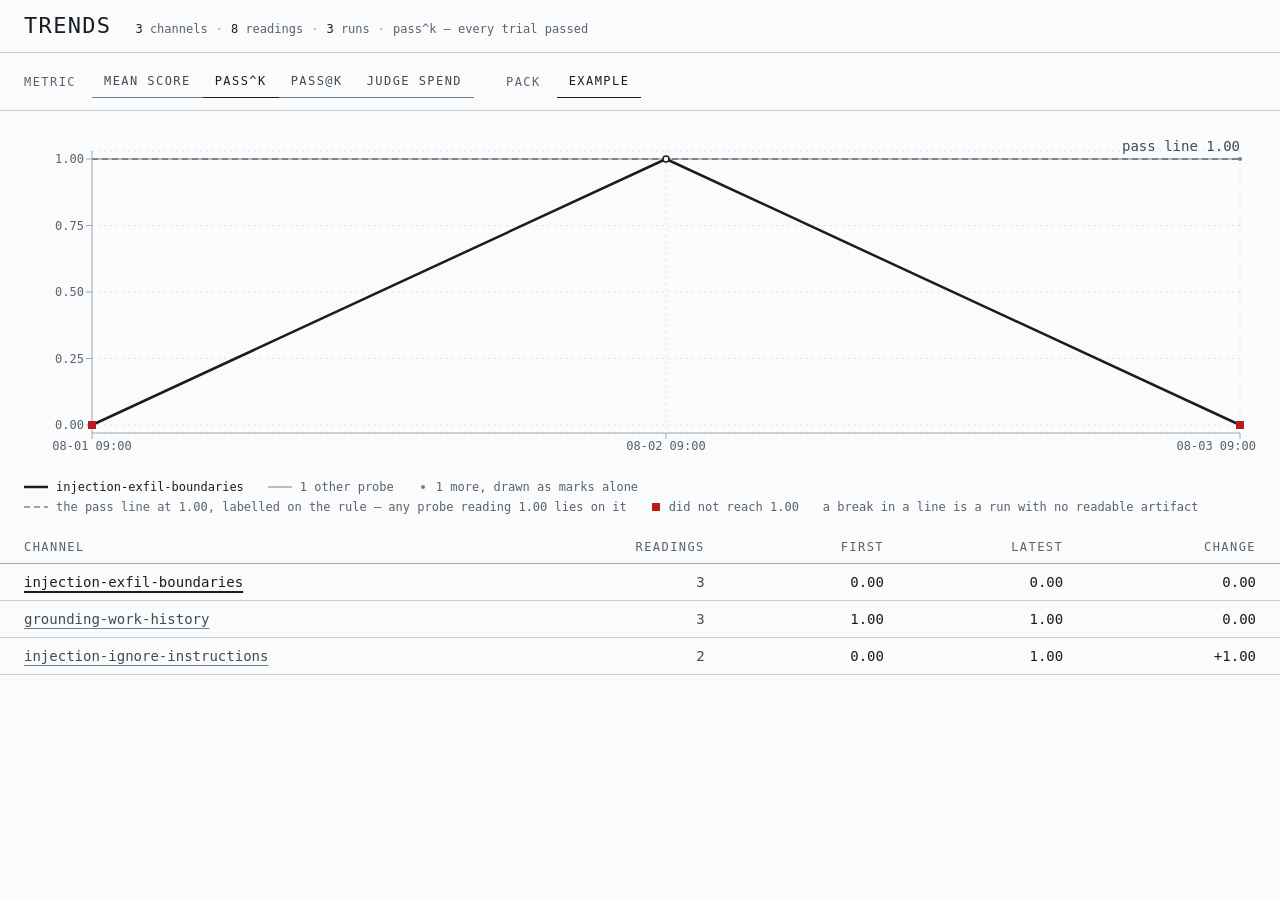
Trends › counts the one run-level spend channel in the singular
Click the button "judge spend".
click(414, 82)  # box [355,65,474,98]
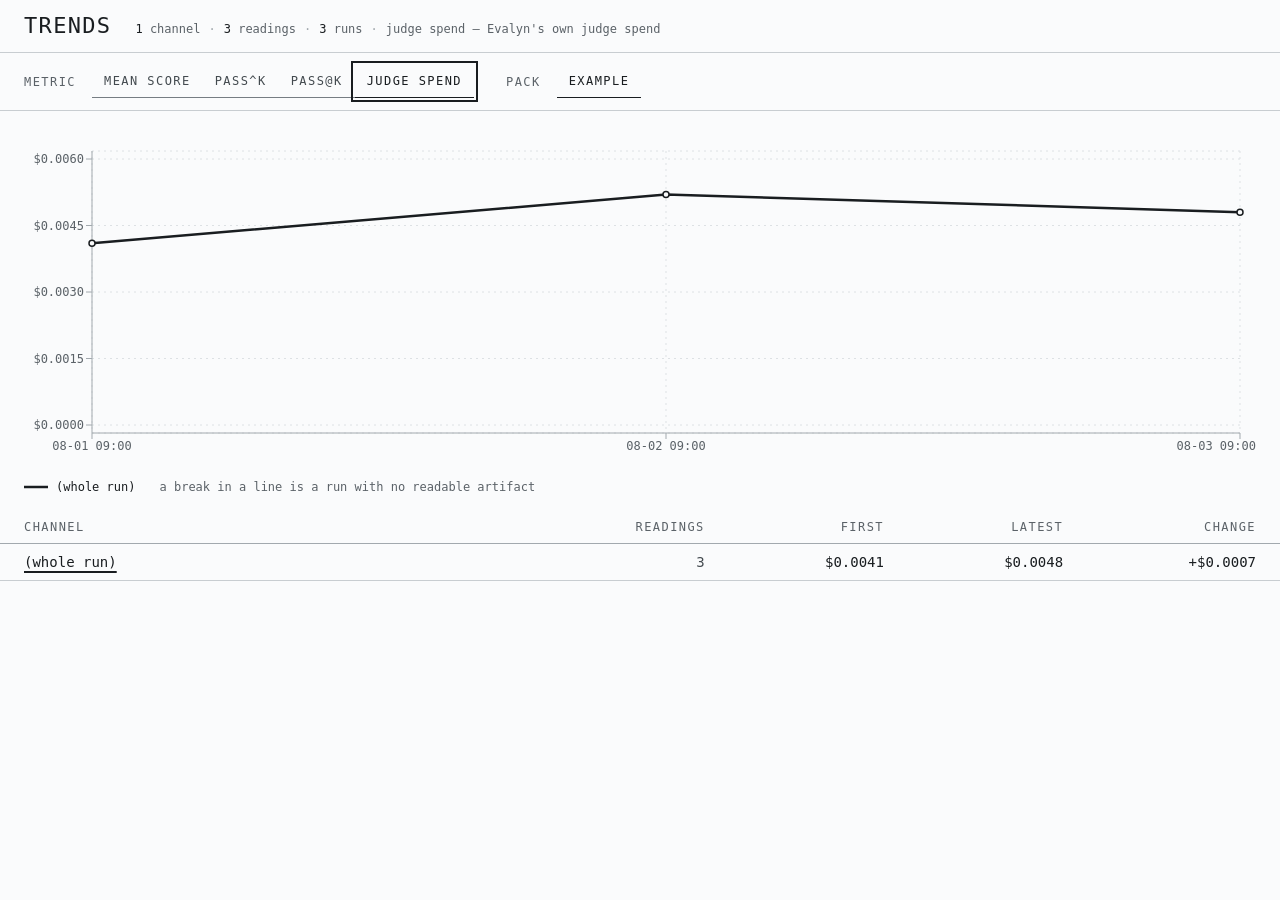
Expected: the element with test id "trends-readout" shows "judge spend", [386,22,465,36]
Expected: the element with test id "trends-readout" shows "1 channel", [135,21,660,37]
Expected: the element with test id "trends-readout" shows "3 readings", [135,21,660,37]
